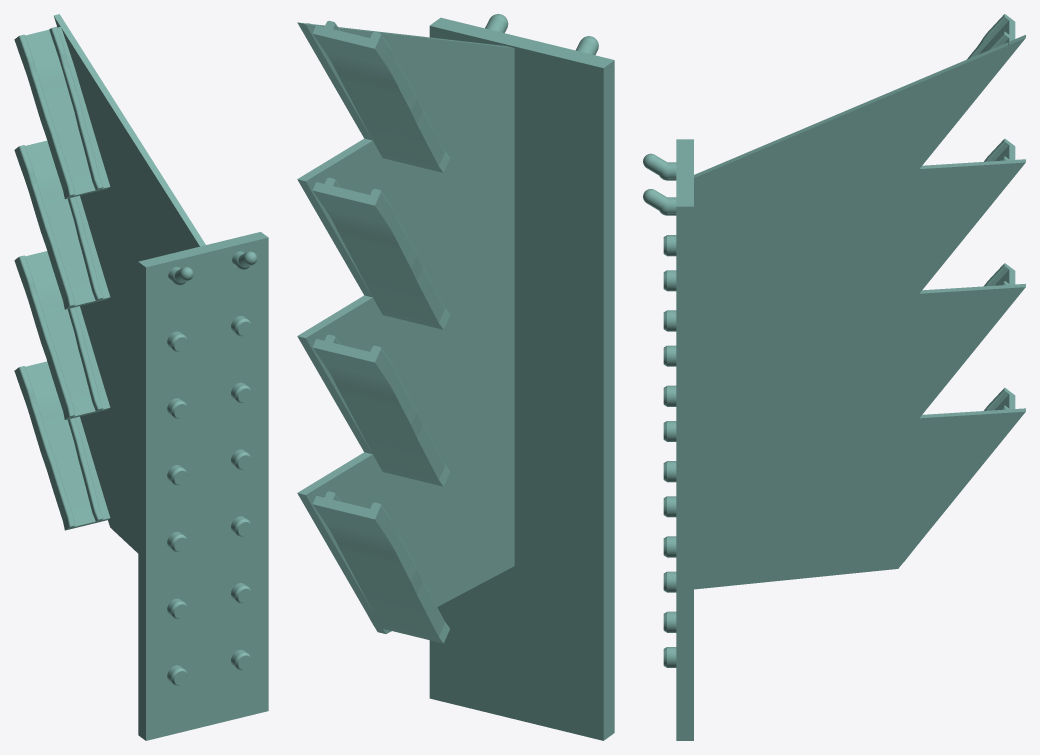
Rendered from part-solder-modules-tweezers__v8__long-body-cradle__fit-e586ab4ff6__empty.glb.
3 renders of one model, left to right at view 1: azimuth 30°, elevation 25°; view 2: azimuth 150°, elevation 25°; view 3: azimuth 270°, elevation 25°, orthographic. The views are drawn at different scales.
Parts seen in each view (by area): view 1: holder; view 2: holder; view 3: holder.
Part boxes in pixels (left/top/right/bottom): holder: left=14, top=14, right=268, bottom=740; holder: left=297, top=14, right=614, bottom=740; holder: left=643, top=14, right=1025, bottom=740.
Bounding box in the file's own units: 0.0488 × 0.227 × 0.117.
